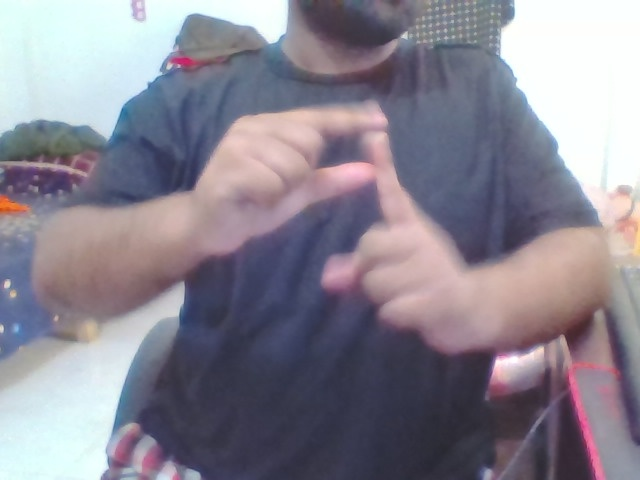P: (186, 87, 483, 367)
